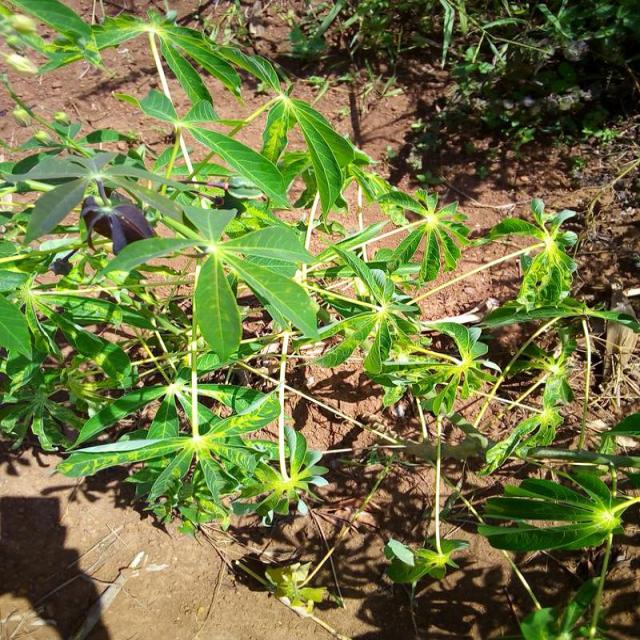cassava leaf: (194, 250, 243, 362)
